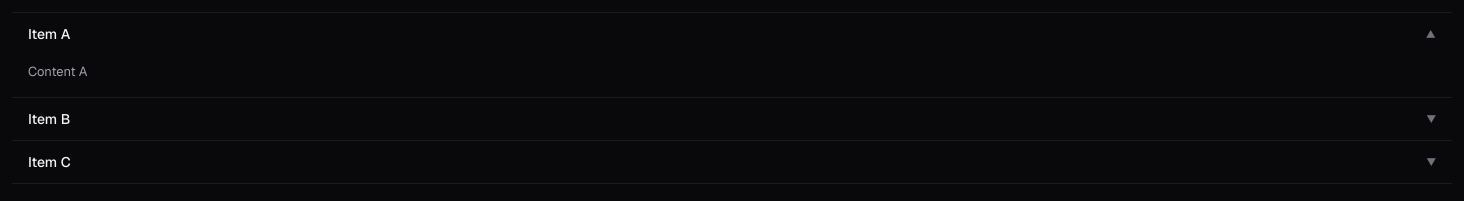
it: Accordion › closes an open item when its header is clicked again
Click the button "Item A ▼" at x=49, y=34, box x1=12 y1=13 x2=1452 y2=55
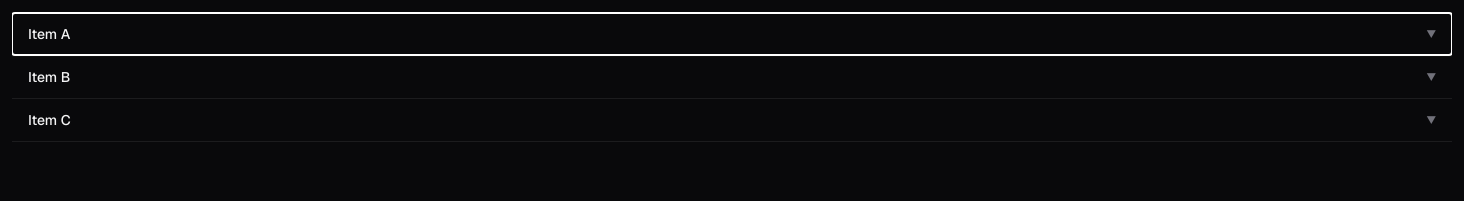
Now the button "Item A ▼" is collapsed, box x1=12 y1=13 x2=1452 y2=55
